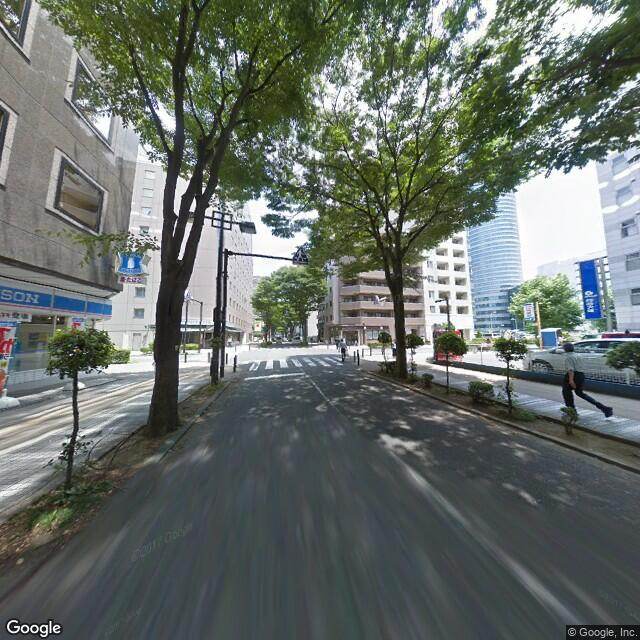lawson: (2, 276, 113, 319), (116, 246, 142, 279)
